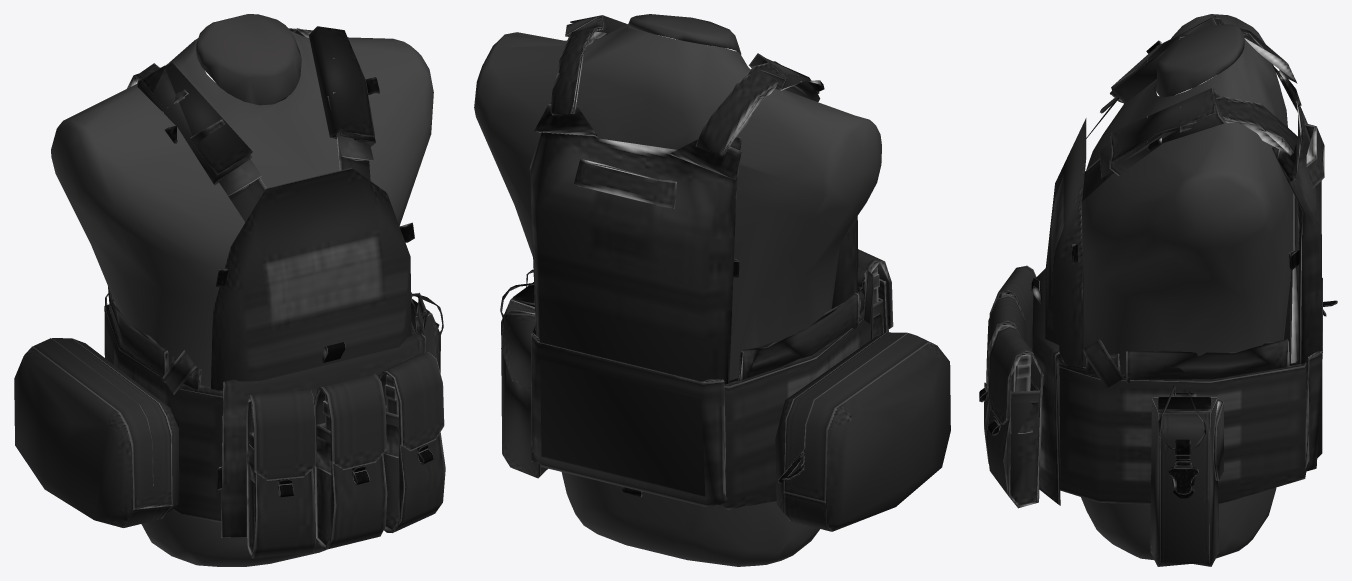
Rendered from vest.glb.
3 renders of one model, left to right at view 1: azimuth 30°, elevation 25°; view 2: azimuth 150°, elevation 25°; view 3: azimuth 270°, elevation 25°, orthographic. The views are drawn at different scales.
Parts seen in each view (by area): view 1: armor_vest_bbM2_0, DUM1_d1_0, mat_left_pouch_0, Pouch_X3_01_pouch_0, Pouch_X3_02_pouch_0, Pouch_X3_03_pouch_0, DUM2_d2_0, Pouch_X3_01_1_3_pouch_0, Pouch_X3_01_1_5_pouch_0, Pouch_X3_01_1_pouch_0, mat_lright_pouch_0; view 2: armor_vest_bbM2_0, DUM1_d1_0, mat_left_pouch_0, mat_lright_pouch_0, DUM2_d2_0, Pouch_X3_01_pouch_0; view 3: armor_vest_bbM2_0, DUM1_d1_0, mat_lright_pouch_0, Pouch_X3_03_pouch_0, DUM2_d2_0, Pouch_X3_01_1_5_pouch_0, Pouch_X3_02_pouch_0, Pouch_X3_01_pouch_0, Plastik02_1_pouch_0, Plastik02_pouch_0, Symmetry_2_4_pouch_0.
Part boxes in pixels (<box>): armor_vest_bbM2_0: <box>104,26,427,537</box>; DUM1_d1_0: <box>51,30,433,566</box>; mat_left_pouch_0: <box>14,338,179,527</box>; Pouch_X3_01_pouch_0: <box>246,389,315,558</box>; Pouch_X3_02_pouch_0: <box>313,374,387,549</box>; Pouch_X3_03_pouch_0: <box>378,352,445,532</box>; DUM2_d2_0: <box>195,14,301,105</box>; Pouch_X3_01_1_3_pouch_0: <box>316,423,331,545</box>; Pouch_X3_01_1_5_pouch_0: <box>383,405,399,529</box>; Pouch_X3_01_1_pouch_0: <box>249,432,255,551</box>; mat_lright_pouch_0: <box>418,312,440,373</box>; armor_vest_bbM2_0: <box>529,15,873,509</box>; DUM1_d1_0: <box>474,24,881,566</box>; mat_left_pouch_0: <box>775,332,950,531</box>; mat_lright_pouch_0: <box>501,298,548,478</box>; DUM2_d2_0: <box>628,14,741,54</box>; Pouch_X3_01_pouch_0: <box>858,249,893,333</box>; armor_vest_bbM2_0: <box>1031,16,1324,505</box>; DUM1_d1_0: <box>1081,14,1293,559</box>; mat_lright_pouch_0: <box>1150,397,1223,566</box>; Pouch_X3_03_pouch_0: <box>986,326,1043,508</box>; DUM2_d2_0: <box>1156,24,1244,97</box>; Pouch_X3_01_1_5_pouch_0: <box>1010,379,1039,505</box>; Pouch_X3_02_pouch_0: <box>984,295,1025,463</box>; Pouch_X3_01_pouch_0: <box>989,265,1036,349</box>; Plastik02_1_pouch_0: <box>1158,385,1210,450</box>; Plastik02_pouch_0: <box>1168,459,1198,498</box>; Symmetry_2_4_pouch_0: <box>1011,354,1031,391</box>.
Bounding box in the file's own units: 0.445 × 0.55 × 0.3663.
Materials: 4 (2 with a texture image).
